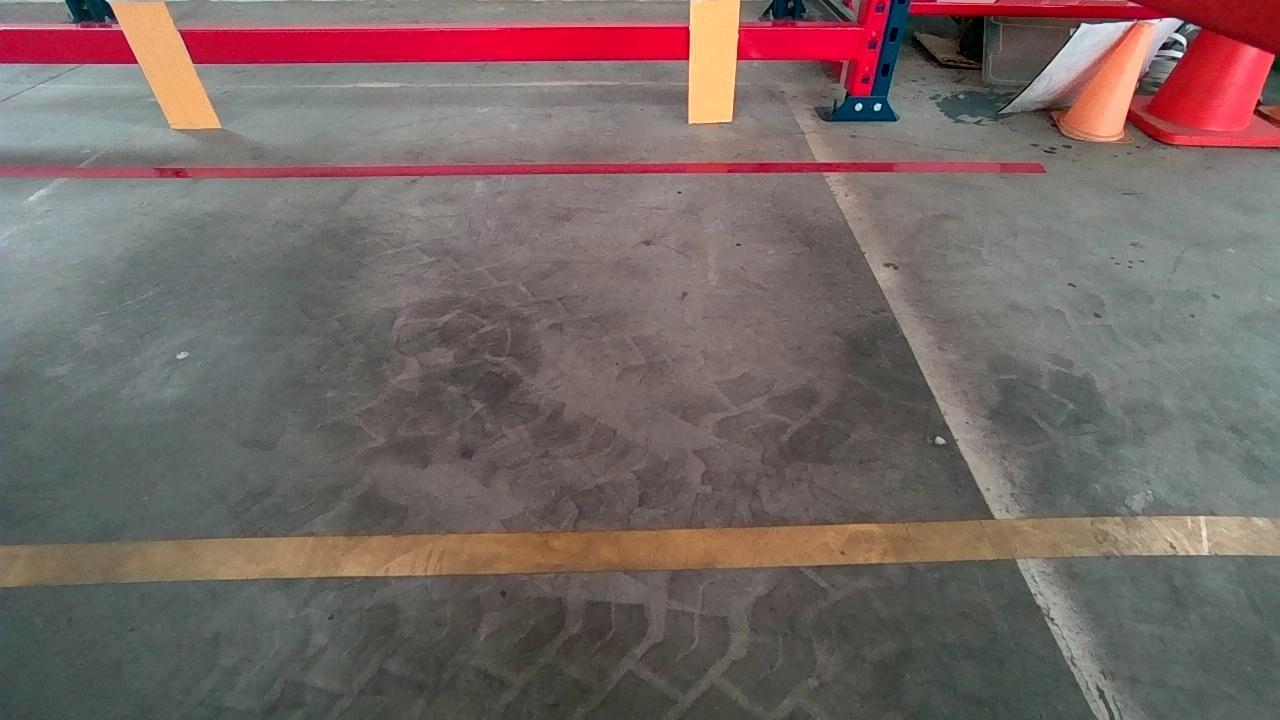h_rack: (10, 28, 868, 71)
orange_strip: (111, 2, 220, 126), (689, 0, 738, 121)
red_line: (6, 153, 1032, 181)
yellow_line: (0, 511, 1277, 590)
